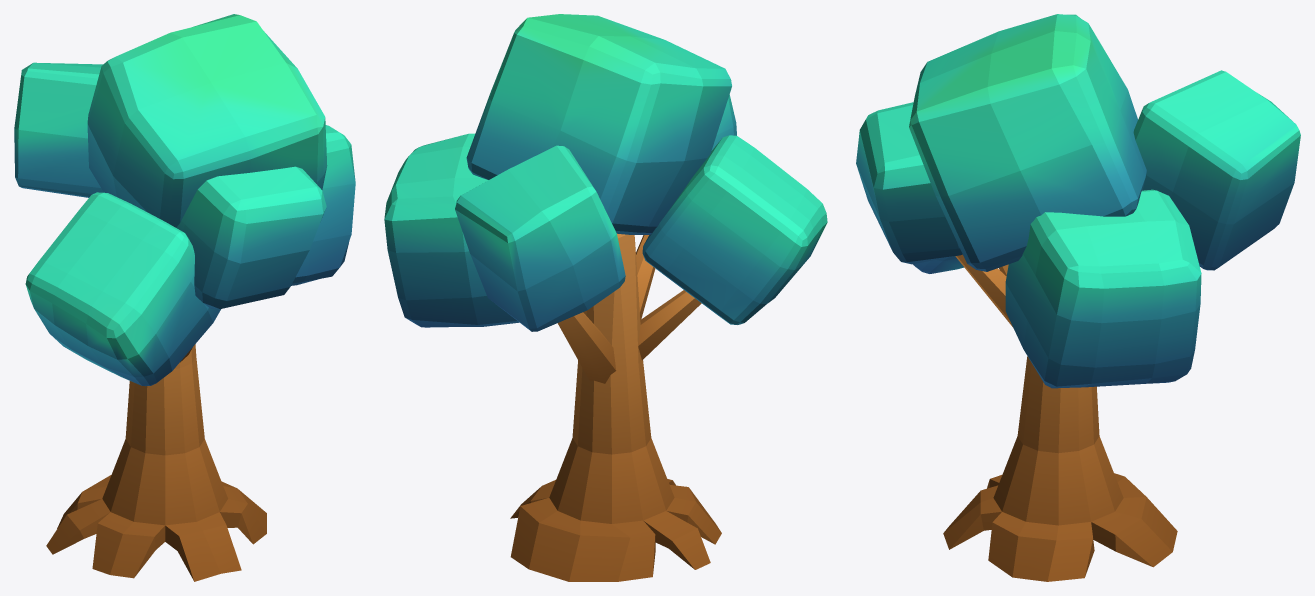
The model's file is Tree_Cube_Summer_Small.fbx.
3 renders of one model, left to right at view 1: azimuth 30°, elevation 25°; view 2: azimuth 150°, elevation 25°; view 3: azimuth 270°, elevation 25°, orthographic. The views are drawn at different scales.
Visible parts, largest first — view 1: Tree_Cube_Summer_Small; view 2: Tree_Cube_Summer_Small; view 3: Tree_Cube_Summer_Small.
Boxes of the visible parts, x1,y1,x2,y2 form: Tree_Cube_Summer_Small: (14,14,355,581); Tree_Cube_Summer_Small: (384,14,827,581); Tree_Cube_Summer_Small: (856,14,1300,581).
Size of the model in its own units: 245 by 322 by 252.
